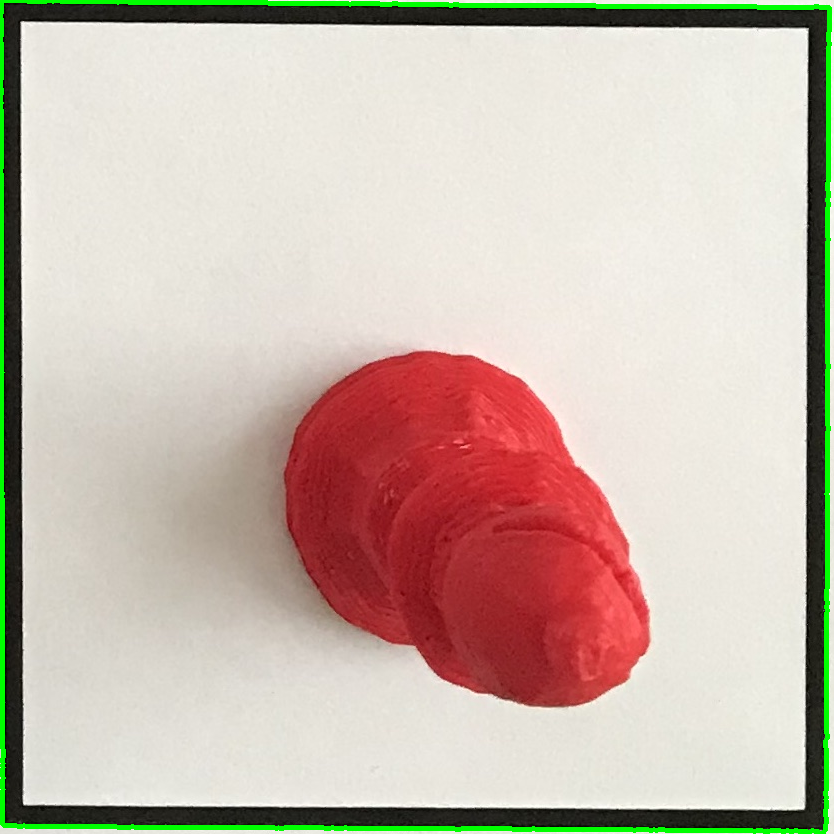Red Bishop: (275, 340, 669, 713)
